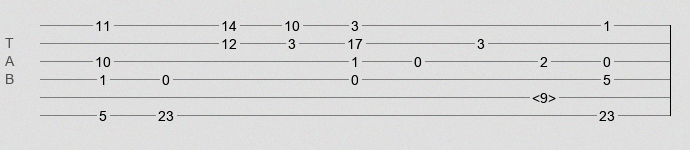0: (162, 72, 170, 82), (351, 72, 359, 82), (414, 54, 422, 64), (603, 54, 611, 64)
1: (99, 72, 107, 82), (351, 54, 359, 64), (603, 18, 611, 28)
10: (95, 54, 111, 64), (284, 18, 300, 28)
11: (95, 18, 111, 28)
12: (221, 36, 237, 46)
14: (221, 18, 237, 28)
17: (347, 36, 363, 46)
2: (540, 54, 548, 64)
23: (158, 108, 174, 118), (599, 108, 615, 118)
3: (288, 36, 296, 46), (351, 18, 359, 28), (477, 36, 485, 46)
5: (99, 108, 107, 118), (603, 72, 611, 82)
harmonic: (532, 90, 556, 100)
